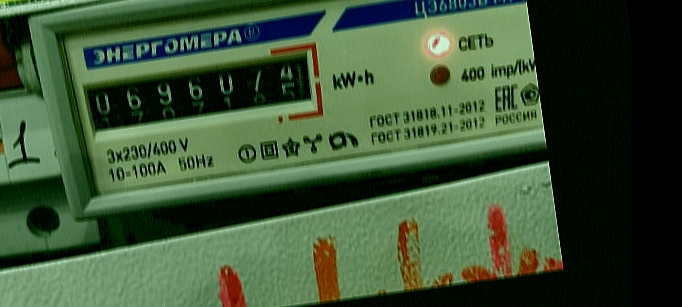0: (93, 88, 115, 115), (218, 68, 237, 96)
4: (279, 59, 296, 81)
5: (282, 80, 299, 101)
6: (187, 72, 207, 101), (124, 83, 145, 110)
7: (249, 65, 268, 93)
9: (156, 78, 176, 106)
screen: (77, 39, 331, 149)
